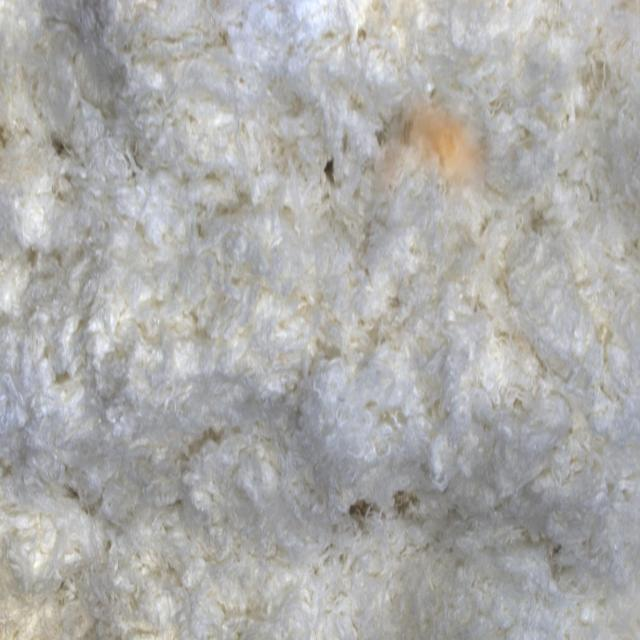dust: (371, 92, 503, 219)
